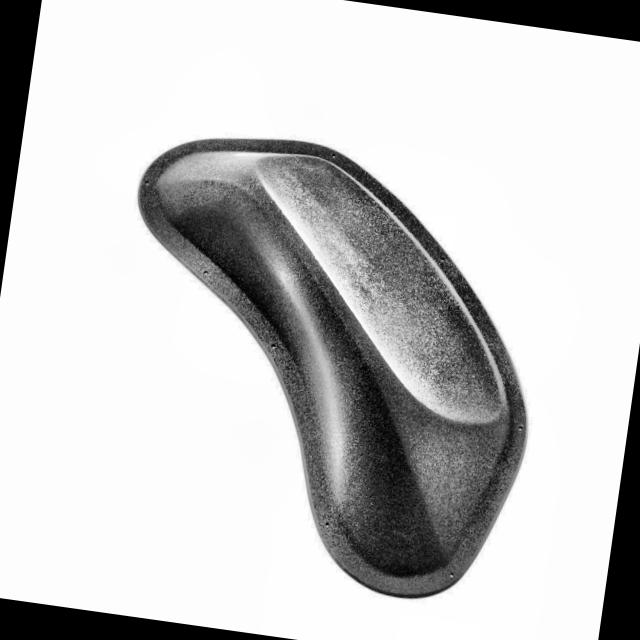Hold: (80, 115, 570, 618)
